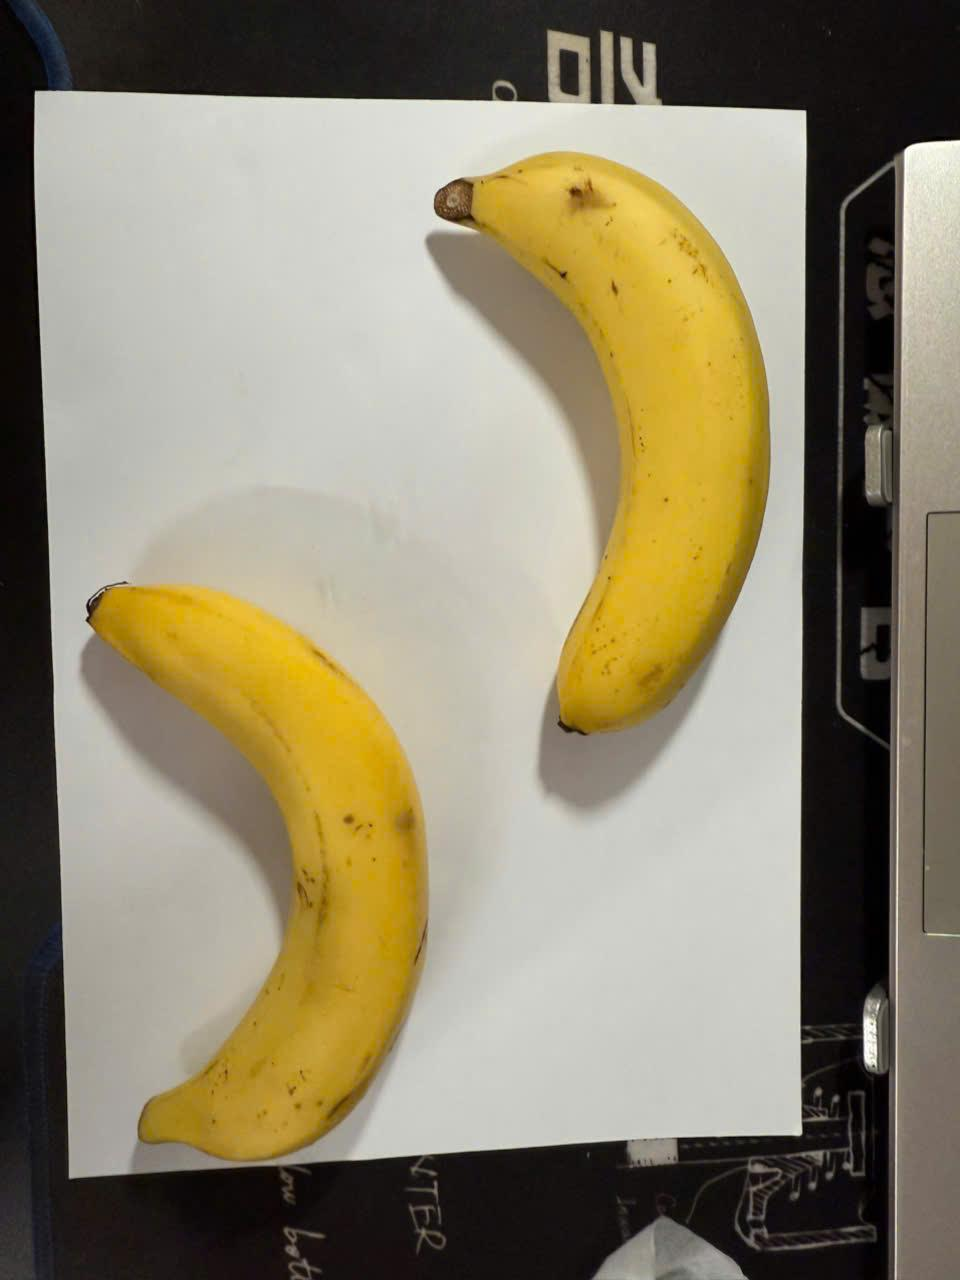banana: (80, 555, 450, 1158), (428, 135, 788, 750)
